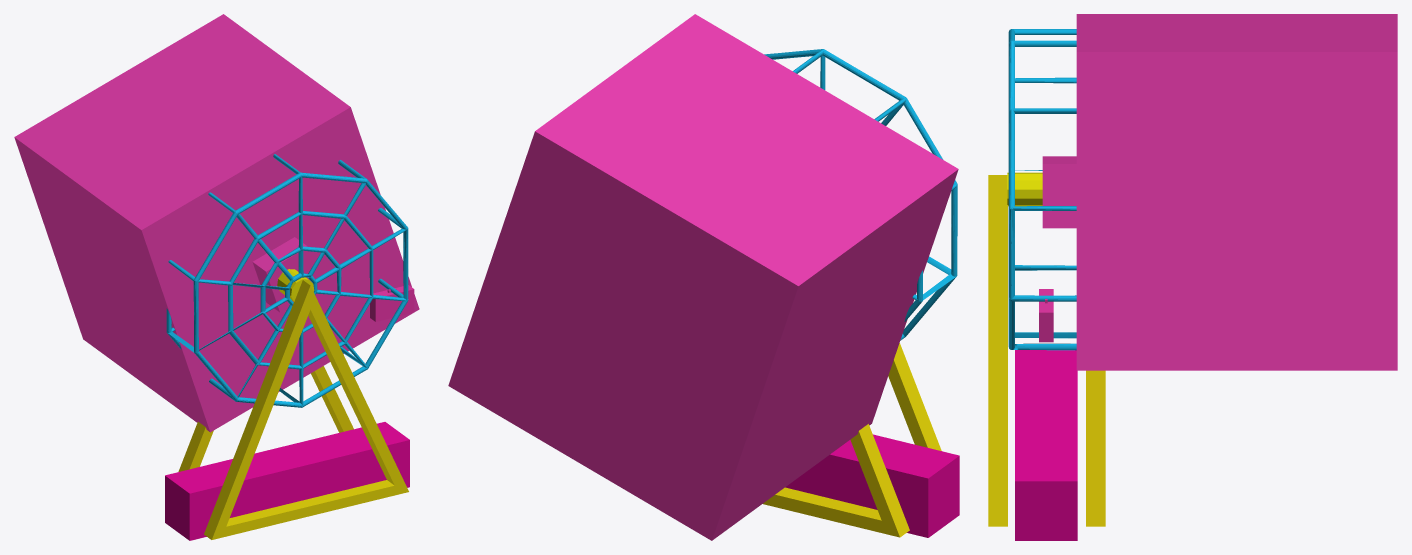
File: ferris_fixed.glb
3 renders of one model, left to right at view 1: azimuth 30°, elevation 25°; view 2: azimuth 150°, elevation 25°; view 3: azimuth 270°, elevation 25°, orthographic. The views are drawn at different scales.
Visible parts, largest first — view 1: v.009, Cube, Cylinder, Plane.001, Plane, v.010; view 2: v.009, Cube, Plane, Cylinder, Plane.001; view 3: v.009, Cube, Plane.001, Cylinder, Plane, Cylinder.001, v.010.
Part boxes in pixels (box(x1,y1,x2,y2)): v.009: box(14, 14, 419, 432); Cube: box(165, 422, 409, 540); Cylinder: box(166, 154, 408, 407); Plane.001: box(204, 280, 408, 539); Plane: box(178, 366, 353, 471); v.010: box(370, 285, 414, 321); v.009: box(448, 14, 958, 540); Cube: box(785, 434, 959, 537); Plane: box(763, 424, 909, 537); Cylinder: box(764, 49, 957, 340); Plane.001: box(888, 343, 941, 450); v.009: box(1042, 14, 1397, 370); Cube: box(1015, 350, 1077, 540); Plane.001: box(988, 175, 1007, 526); Cylinder: box(1008, 29, 1076, 350); Plane: box(1086, 370, 1105, 526); Cylinder.001: box(1007, 172, 1042, 206); v.010: box(1039, 289, 1053, 342).
Bounding box in the file's own units: 2.52 × 3.21 × 2.55.
